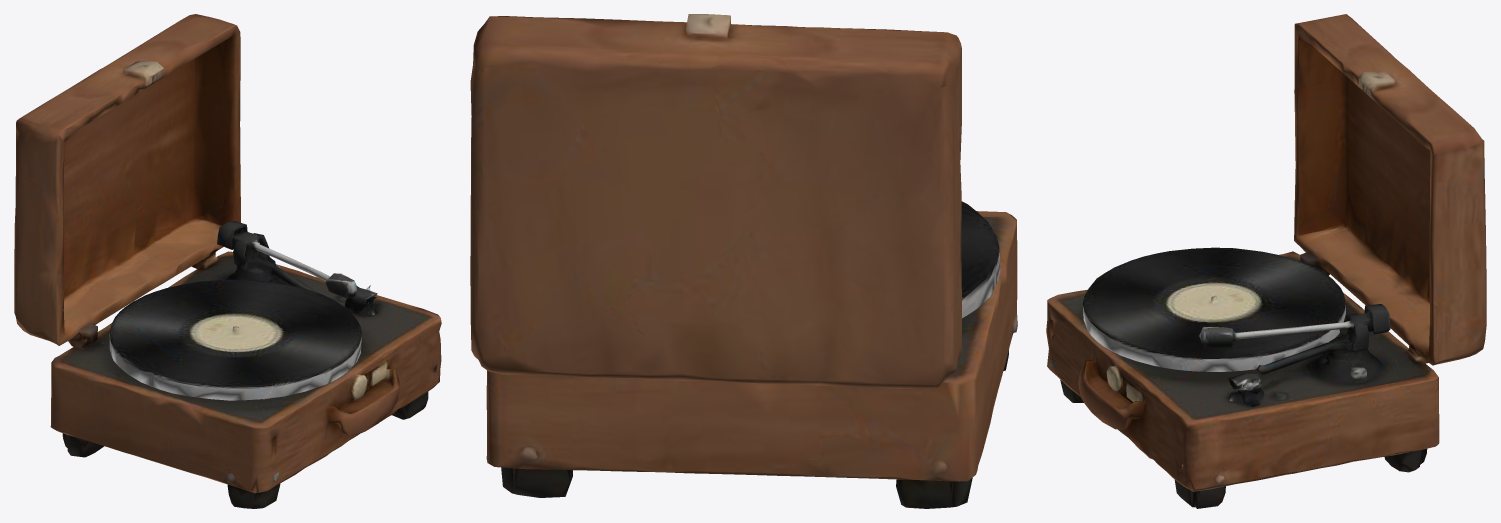
The model's file is turntable-v1.glb.
3 renders of one model, left to right at view 1: azimuth 30°, elevation 25°; view 2: azimuth 150°, elevation 25°; view 3: azimuth 270°, elevation 25°, orthographic. The views are drawn at different scales.
Parts seen in each view (by area): view 1: prop__turntable; view 2: prop__turntable; view 3: prop__turntable.
Part boxes in pixels (left/top/right/bottom): prop__turntable: left=14, top=14, right=441, bottom=508; prop__turntable: left=470, top=14, right=1017, bottom=508; prop__turntable: left=1046, top=14, right=1486, bottom=508.
Size of the model in its own units: 0.2264 by 0.2 by 0.2375.
Materials: 1 (1 with a texture image).
